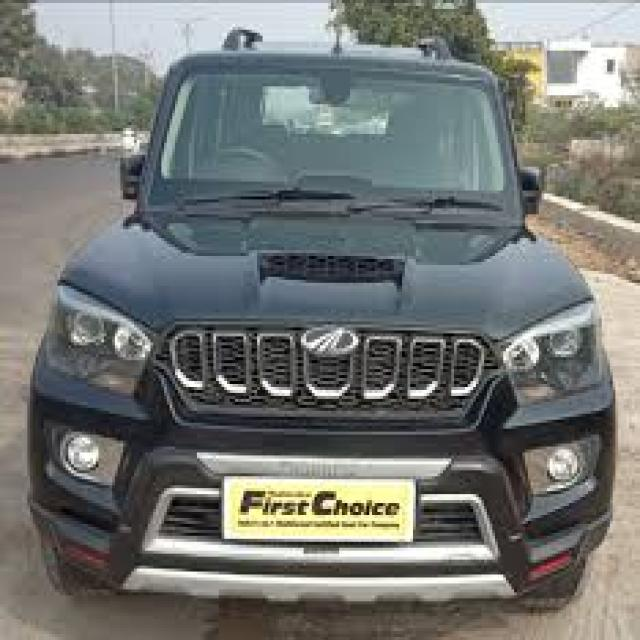Car: (29, 49, 615, 601)
